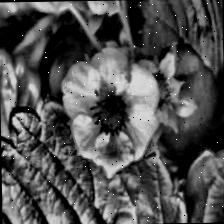Blossom Blight: (86, 85, 134, 140)
